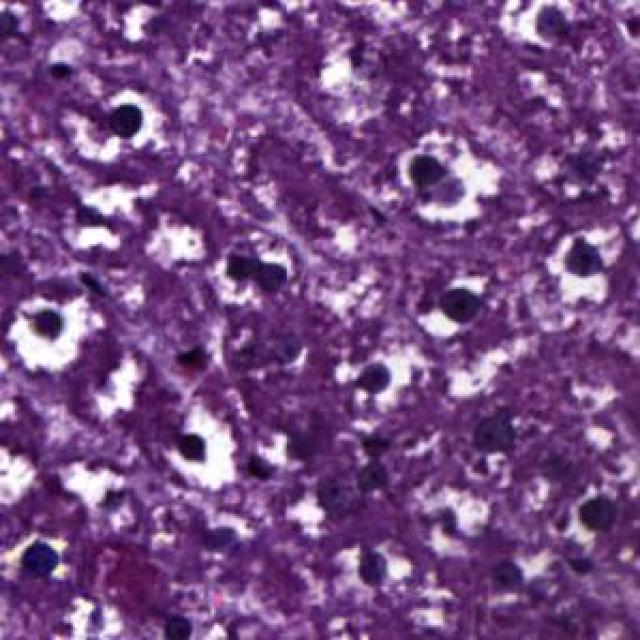inflammation: (225, 229, 289, 302), (17, 527, 64, 595), (437, 274, 488, 334), (469, 402, 520, 462), (561, 227, 612, 285), (102, 92, 146, 141), (580, 475, 621, 522), (28, 302, 66, 340)
